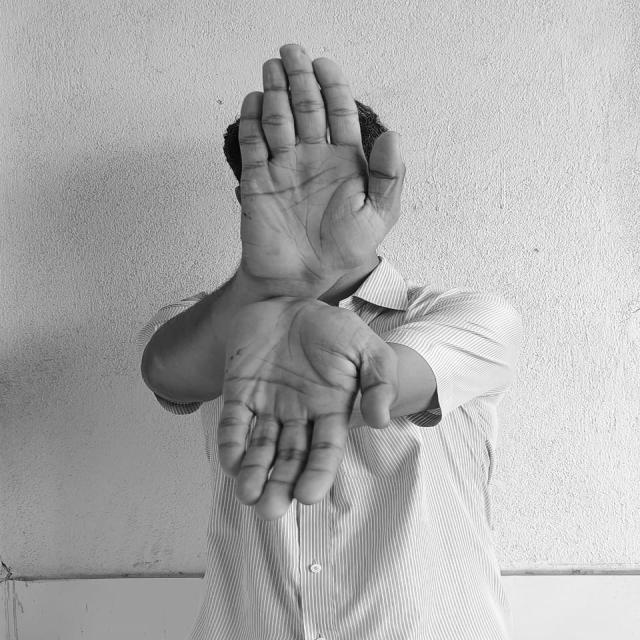Morning: (211, 41, 409, 523)
